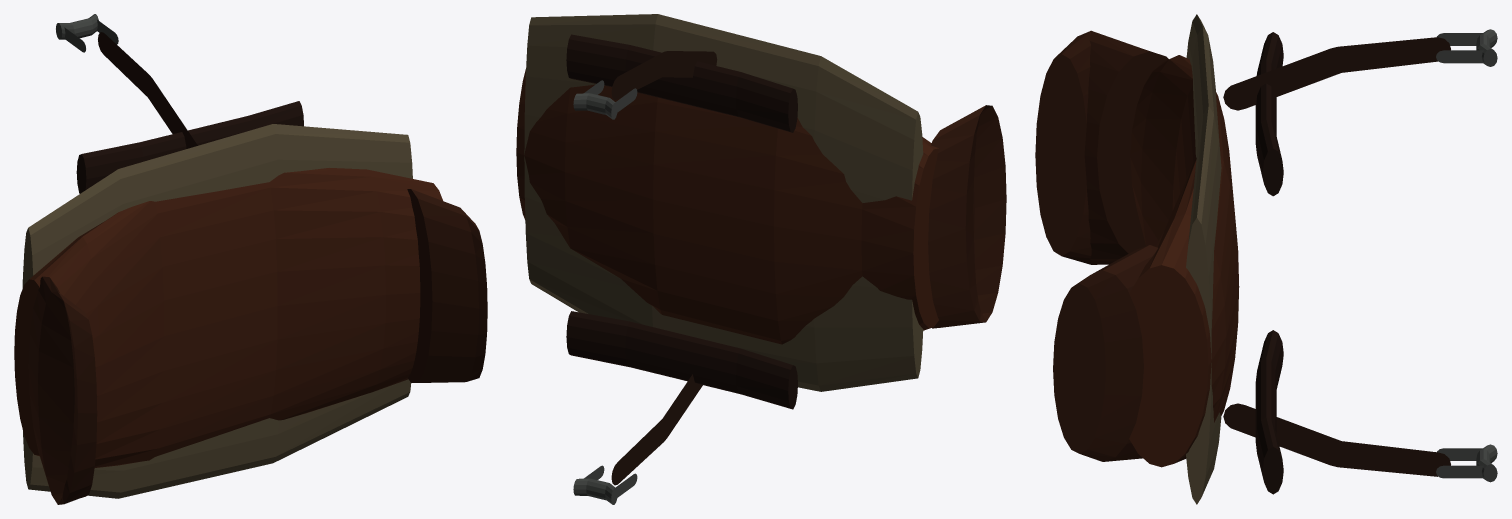
Rendered from saddle_LOD0.obj.
The picture shows the model from 3 angles, left to right: view 1: azimuth 30°, elevation 25°; view 2: azimuth 150°, elevation 25°; view 3: azimuth 270°, elevation 25°; orthographic projection. The views are drawn at different scales.
Bounding box in the file's own units: 0.89 × 0.826 × 0.787.
